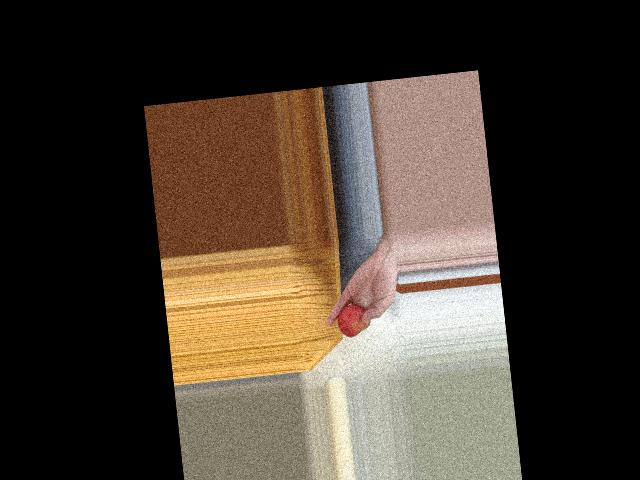apple: (335, 297, 373, 341)
